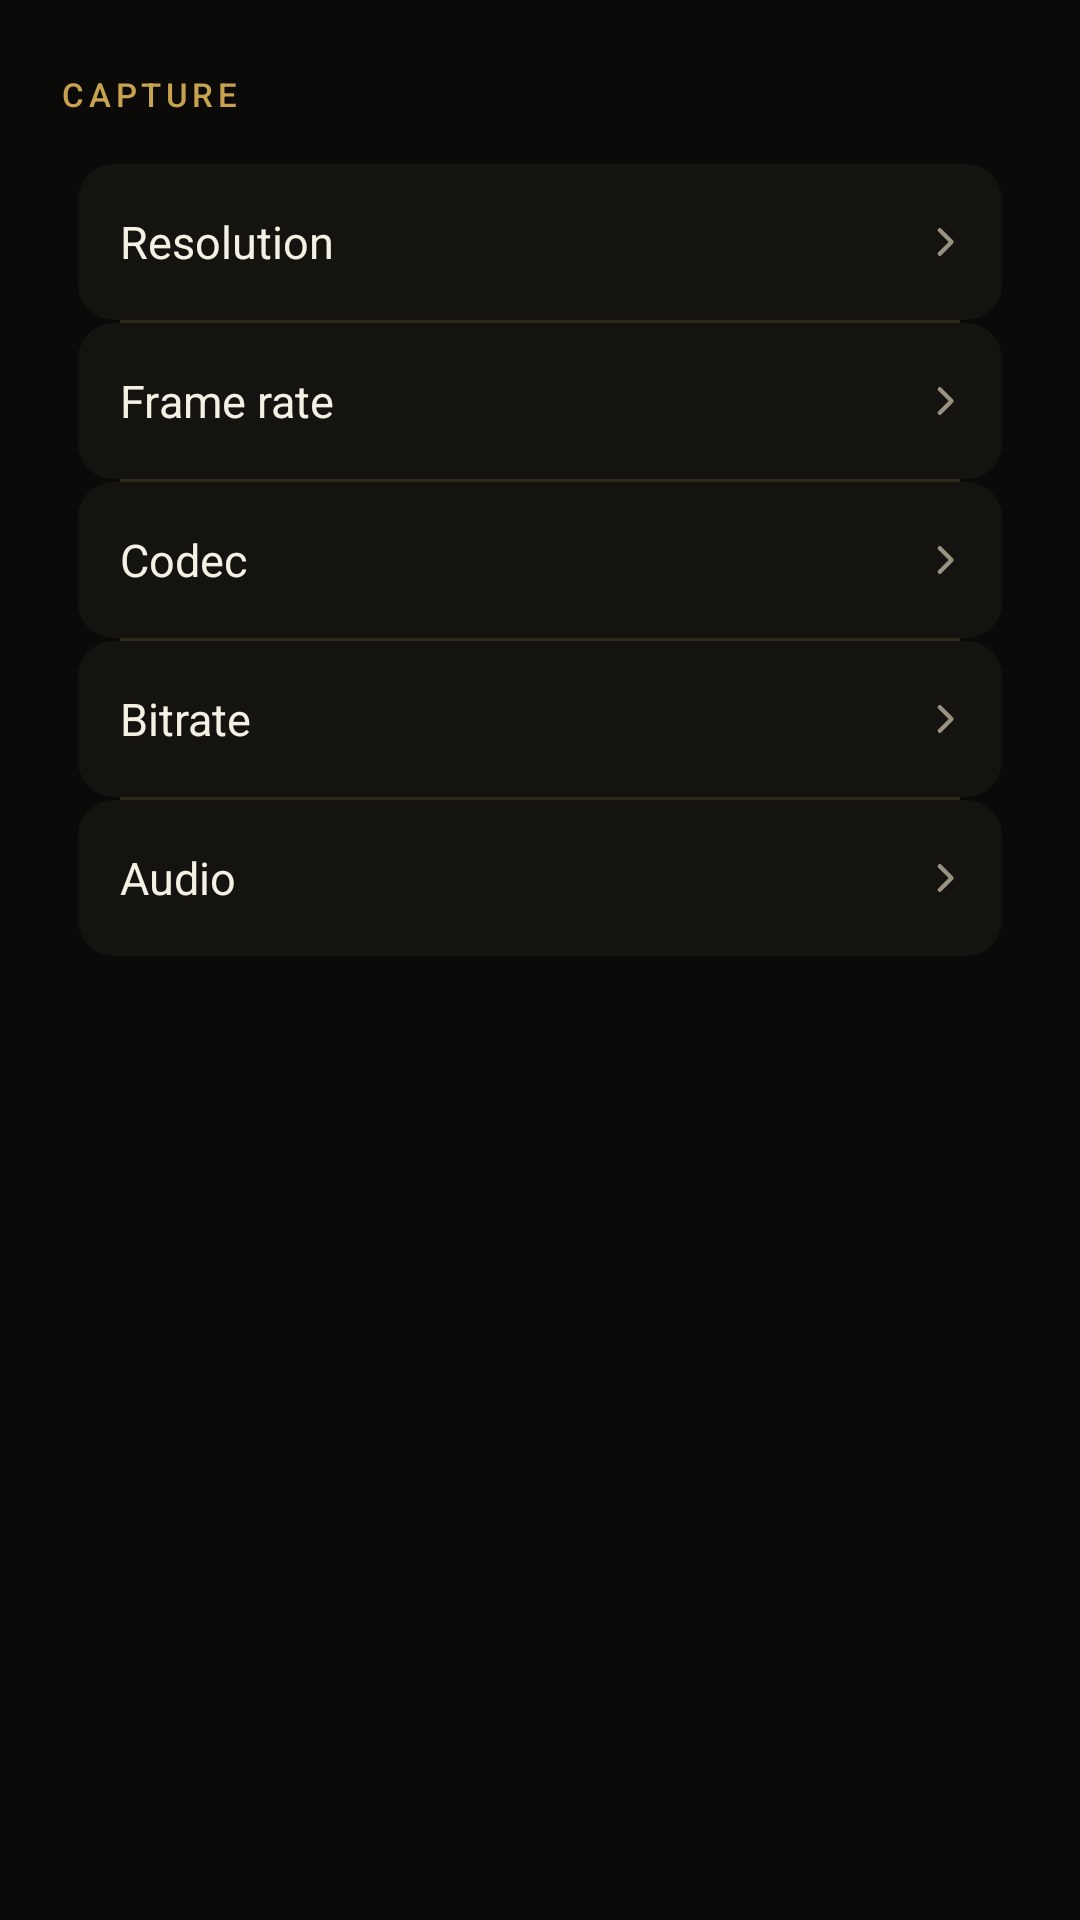

Icons on this 1080*1920 Android screen, each with its box as [x1,y1,x2,y2]:
chevron: [937,228,954,256], [937,387,954,415], [937,546,954,574], [937,705,954,733], [937,864,954,892]
